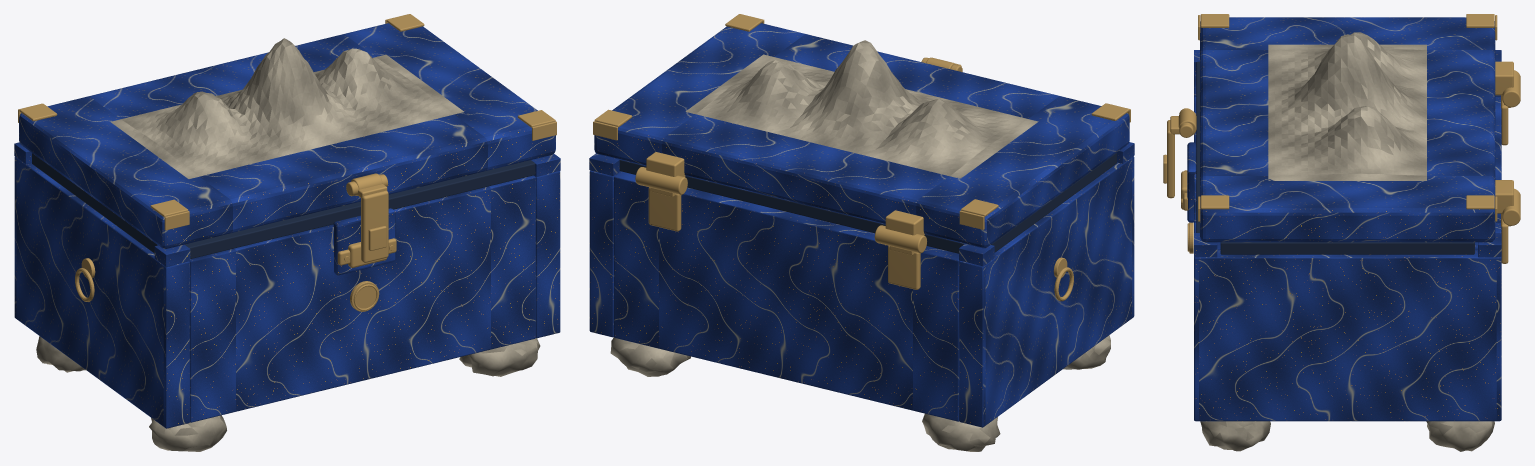
Rendered from afghanistan.glb.
3 renders of one model, left to right at view 1: azimuth 30°, elevation 25°; view 2: azimuth 150°, elevation 25°; view 3: azimuth 270°, elevation 25°, orthographic.
Parts seen in each view (by area): view 1: Lapis / front, Lid / polished slab, Lapis / side, Terrain / Hindu Kush three peaks, Mineral seam / long, Lapis / side.001, Marble foot, Marble foot.002, Latch / lifting hasp, Lapis / clasp seat, Mineral seam / side, Marble foot.001 (+2 smaller); view 2: Lapis / rear, Lid / polished slab, Lapis / side, Terrain / Hindu Kush three peaks, Lapis / side.001, Mineral seam / long.001, Marble foot.001, Marble foot.003, Mineral seam / side, Hinge / fixed mount.001, Hinge / fixed mount, Hinge / fixed barrel.001 (+6 smaller); view 3: Lapis / side.001, Lid / polished slab, Terrain / Hindu Kush three peaks, Mineral seam / side.001, Marble foot.002, Marble foot.003, Lapis / rear, Lapis / clasp seat, Mineral seam / long, Hinge / moving leaf, Latch / lifting hasp, Hinge / moving leaf.001 (+8 smaller).
Part boxes in pixels (x1,y1,x2,y2): Lapis / front: (189,175,535,422); Lid / polished slab: (19,23,555,248); Lapis / side: (14,156,189,428); Terrain / Hindu Kush three peaks: (111,38,464,178); Mineral seam / long: (184,160,535,258); Lapis / side.001: (534,171,560,338); Marble foot: (149,415,226,451); Marble foot.002: (459,338,540,376); Latch / lifting hasp: (361,190,388,262); Lapis / clasp seat: (333,208,395,275); Mineral seam / side: (32,153,157,253); Marble foot.001: (36,336,85,372); Lapis / rear: (614,171,959,421); Lid / polished slab: (594,23,1129,248); Lapis / side: (959,156,1134,427); Terrain / Hindu Kush three peaks: (685,40,1038,178); Lapis / side.001: (589,170,620,337); Mineral seam / long.001: (619,160,964,253); Marble foot.001: (922,413,1000,451); Marble foot.003: (610,337,690,376); Mineral seam / side: (991,153,1116,252); Hinge / fixed mount.001: (648,187,681,231); Hinge / fixed mount: (888,245,920,289); Hinge / fixed barrel.001: (635,167,687,194); Lapis / side.001: (1194,249,1501,421); Lid / polished slab: (1200,17,1495,242); Terrain / Hindu Kush three peaks: (1268,32,1426,180); Mineral seam / side.001: (1220,242,1474,254); Marble foot.002: (1200,421,1270,451); Marble foot.003: (1426,421,1494,451); Lapis / rear: (1495,95,1501,232); Lapis / clasp seat: (1187,142,1196,222); Mineral seam / long: (1196,61,1199,232); Hinge / moving leaf: (1495,61,1513,95); Latch / lifting hasp: (1167,120,1174,198); Hinge / moving leaf.001: (1495,180,1513,213).
Size of the model in its own units: 3.79 by 2.98 by 2.88.
Materials: 4 (2 with a texture image).
